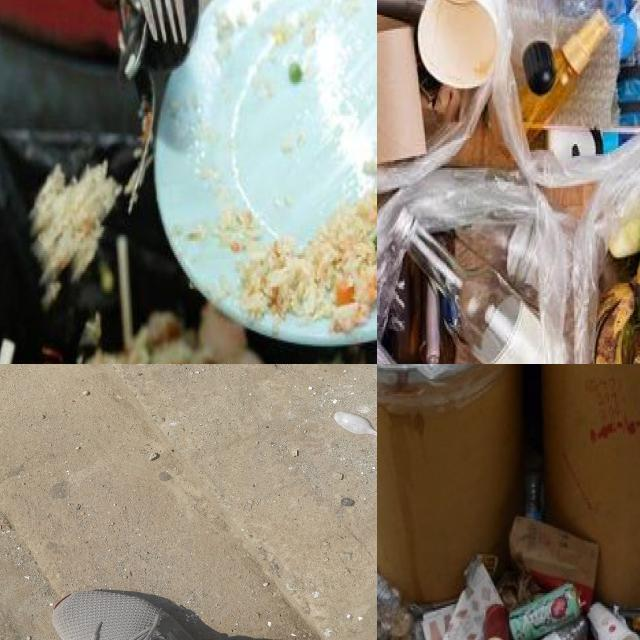Background: (0, 364, 377, 640)
Disposable: (335, 412, 377, 436)
Garbage: (377, 187, 583, 364), (498, 0, 640, 187), (377, 0, 505, 185), (242, 186, 377, 332), (584, 190, 640, 364)
Glass_bottle: (377, 169, 570, 364), (377, 171, 550, 364), (409, 227, 542, 364)
Plastic: (493, 0, 640, 187)
Plastic_Straw: (115, 235, 133, 350)
contaminated_waste: (377, 79, 574, 364), (399, 207, 559, 364), (496, 0, 619, 166), (511, 0, 560, 93), (542, 125, 640, 171)
